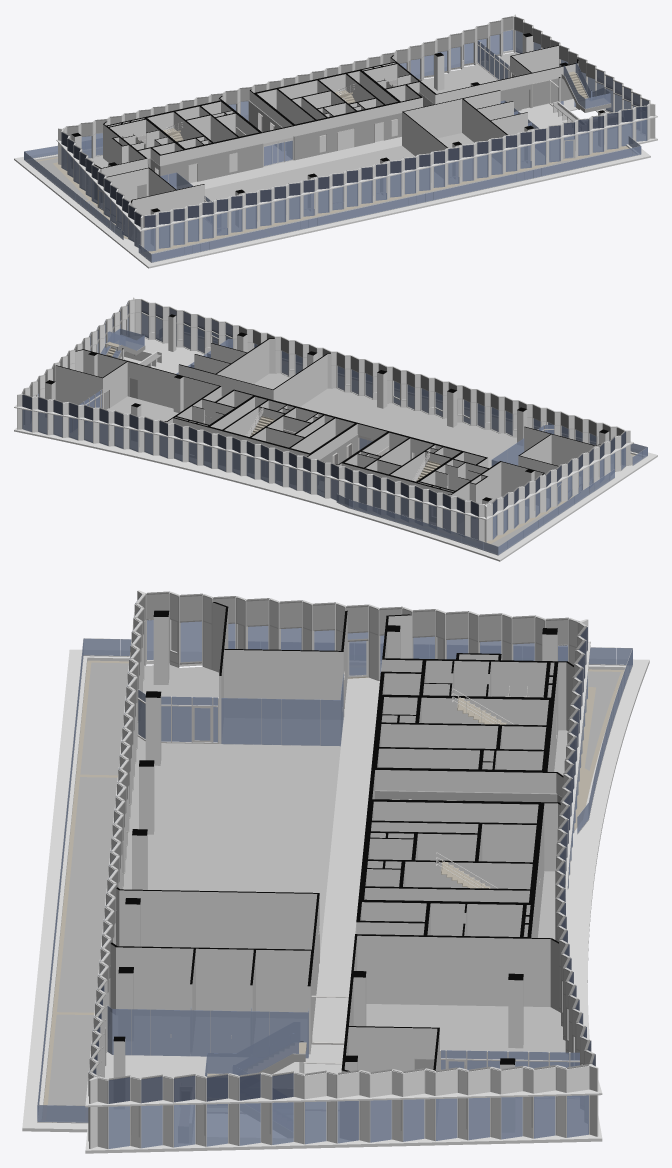
The picture shows the model from 3 angles, top to bottom: view 1: azimuth 30°, elevation 25°; view 2: azimuth 150°, elevation 25°; view 3: azimuth 270°, elevation 25°; orthographic projection. The views are drawn at different scales.
Visible parts, largest first — view 1: A5-13F_Wall, A5-13F_Glass, A5-13F_GlassFrame, A5-13F_Floor, A5-13F_Exterior, A5-13F_Terrace Glass, A5-13F_Wall2, A5-13F_Exterior3, A5-13F_Pillar, A5-13F_Door, A5-13F_Exterior2, A5-13F_Stairs (+3 smaller); view 2: A5-13F_Wall, A5-13F_GlassFrame, A5-13F_Glass, A5-13F_Floor, A5-13F_Exterior, A5-13F_Pillar, A5-13F_Terrace Glass, A5-13F_Exterior3, A5-13F_Stairs, A5-13F_GlassWall, A5-13F_Exterior2, A5-13F_Wall2 (+2 smaller); view 3: A5-13F_Wall, A5-13F_Floor, A5-13F_GlassFrame, A5-13F_Exterior, A5-13F_Glass, A5-13F_Exterior3, A5-13F_GlassWall, A5-13F_Pillar, A5-13F_Stairs, A5-13F_Terrace Glass, A5-13F_Exterior2, A5-13F_GlassDoor (+3 smaller).
Part boxes in pixels (x1,y1,x2,y2): A5-13F_Wall: [94, 45, 578, 235]; A5-13F_Glass: [61, 30, 648, 251]; A5-13F_GlassFrame: [61, 16, 650, 250]; A5-13F_Floor: [64, 52, 645, 249]; A5-13F_Exterior: [14, 14, 657, 268]; A5-13F_Terrace Glass: [24, 136, 641, 262]; A5-13F_Wall2: [95, 77, 573, 202]; A5-13F_Exterior3: [32, 148, 632, 260]; A5-13F_Pillar: [71, 33, 605, 244]; A5-13F_Door: [137, 72, 558, 198]; A5-13F_Exterior2: [34, 146, 635, 253]; A5-13F_Stairs: [163, 62, 611, 141]; A5-13F_Wall: [55, 338, 602, 528]; A5-13F_GlassFrame: [21, 299, 626, 541]; A5-13F_Glass: [22, 300, 625, 539]; A5-13F_Floor: [23, 336, 624, 538]; A5-13F_Exterior: [14, 297, 657, 561]; A5-13F_Pillar: [45, 314, 609, 505]; A5-13F_Terrace Glass: [336, 443, 647, 555]; A5-13F_Exterior3: [184, 336, 639, 552]; A5-13F_Stairs: [100, 328, 440, 481]; A5-13F_GlassWall: [62, 339, 554, 466]; A5-13F_Exterior2: [185, 338, 638, 544]; A5-13F_Wall2: [214, 396, 488, 492]; A5-13F_Wall: [110, 602, 573, 1115]; A5-13F_Floor: [105, 664, 587, 1148]; A5-13F_GlassFrame: [88, 591, 595, 1149]; A5-13F_Exterior: [22, 590, 649, 1153]; A5-13F_Glass: [89, 595, 595, 1148]; A5-13F_Exterior3: [47, 662, 620, 1120]; A5-13F_GlassWall: [107, 674, 579, 1098]; A5-13F_Pillar: [113, 610, 557, 1131]; A5-13F_Stairs: [205, 688, 513, 1137]; A5-13F_Terrace Glass: [37, 638, 632, 1123]; A5-13F_Exterior2: [42, 660, 624, 1120]; A5-13F_GlassDoor: [169, 677, 466, 1068].
Size of the model in its own units: 63.23 by 5.62 by 33.45.
